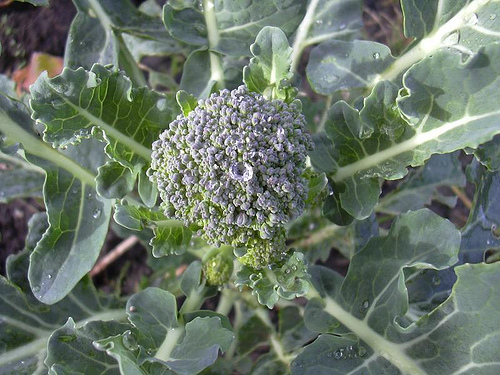broccoli: (144, 84, 318, 266)
